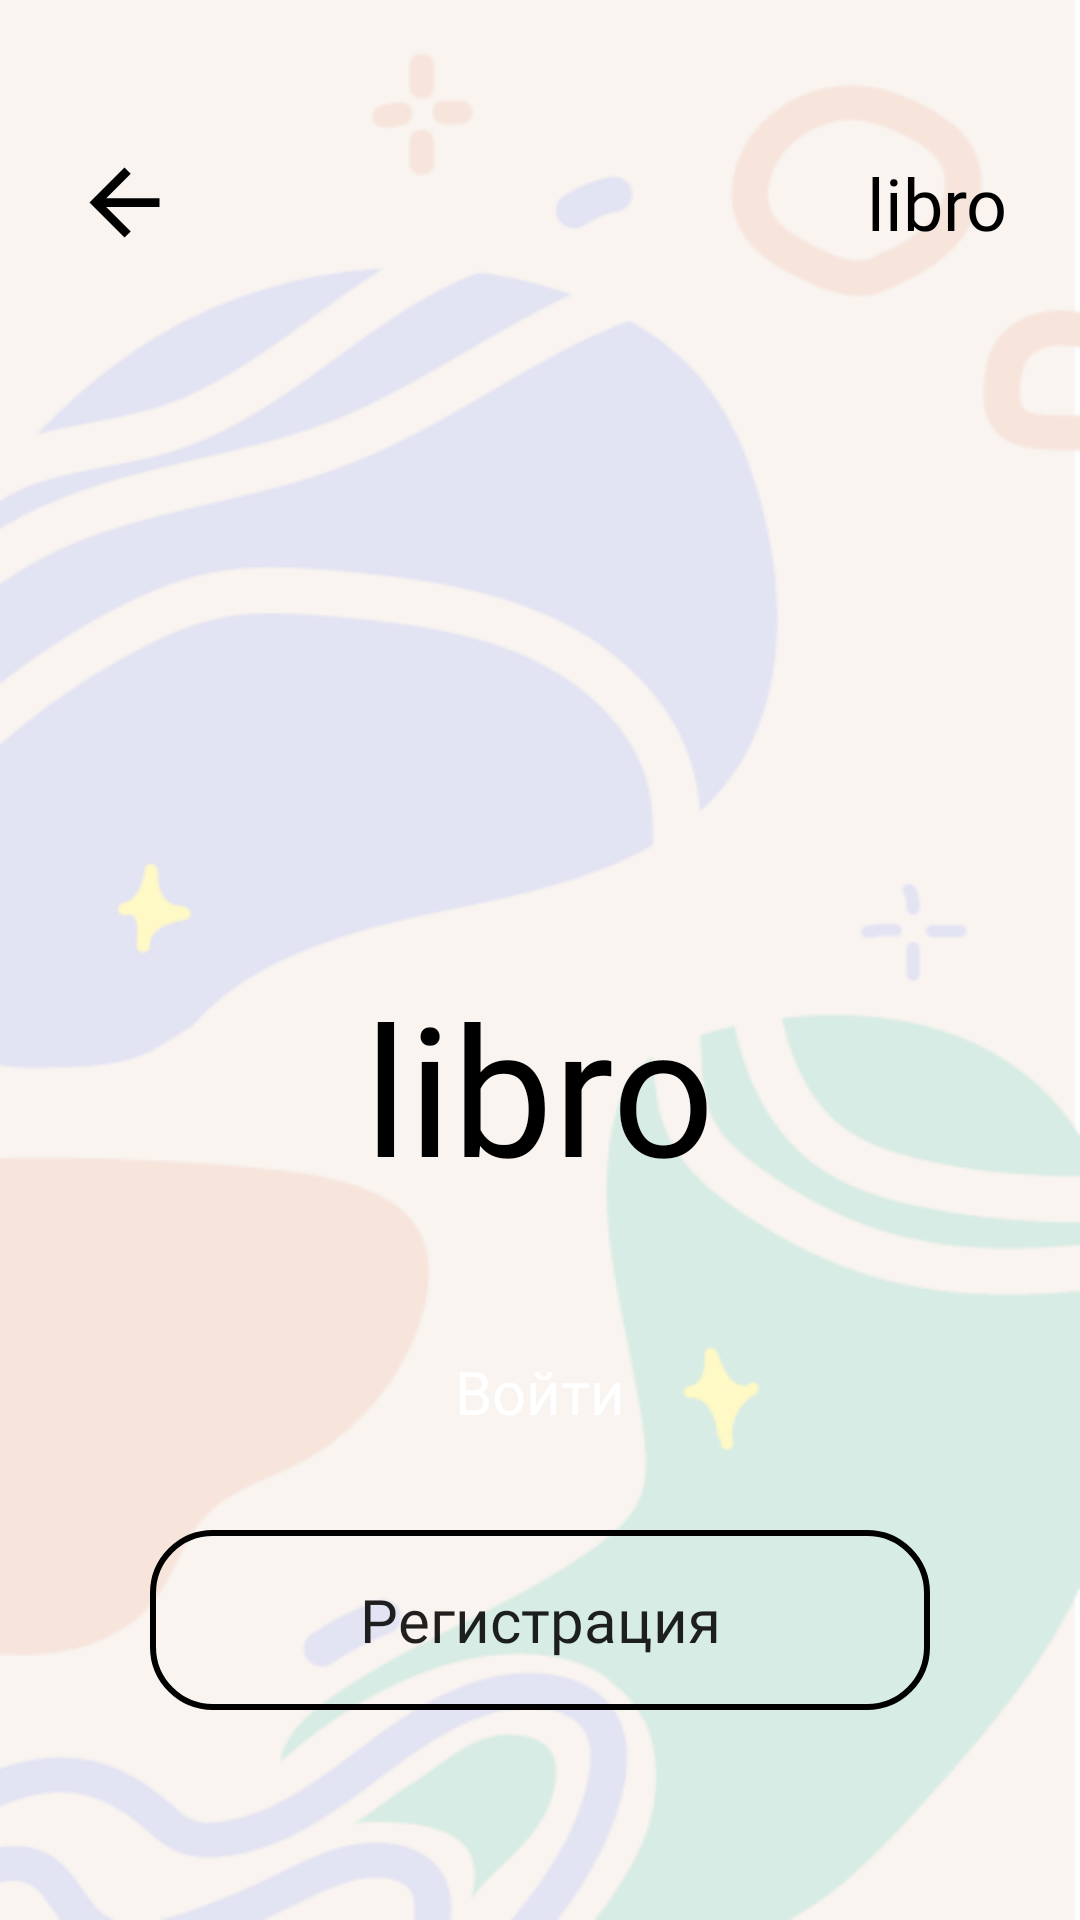

Screen size 1080 x 1920. Icon name, then its center in pixels as [x,y]:
arrow: [124,202]
